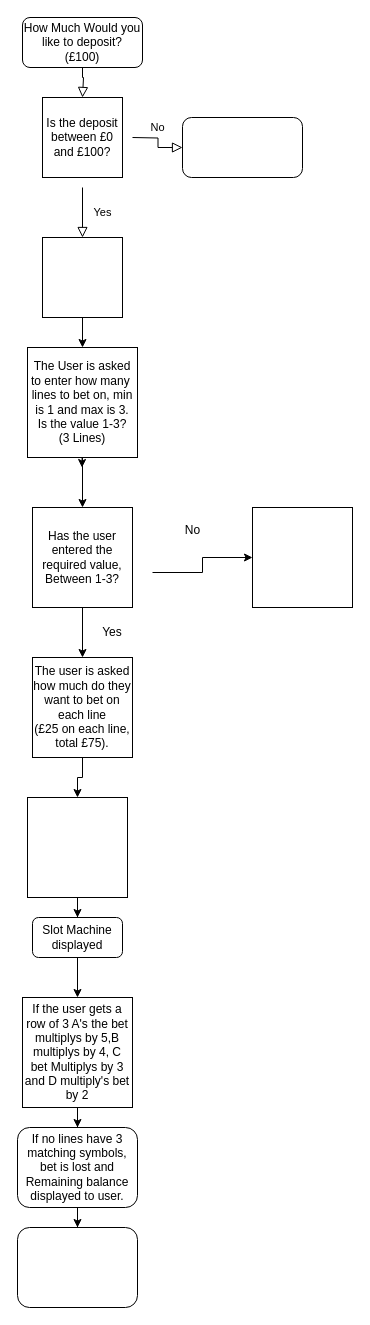
This 370x1325 diagram has some shape labels left out. Here are the shapes that lost their labels. From the top down, the box of each, then its label:
(182, 116, 302, 178): Tell user to re-enter a value Between £0-£100
(42, 236, 122, 318): Deposit funds to balance, Display Balance to user
(252, 506, 352, 608): Please enter again how many lines you wish to bet, Minimum is 1 and max is 3.
(26, 796, 128, 898): The Program explains to the user, You have bet £25 on 3 lines, total bet is £75.
